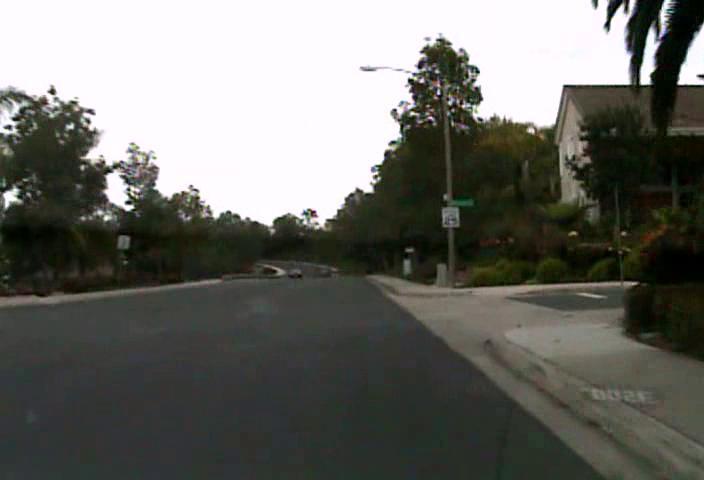speedLimit25: (441, 205, 460, 228)
